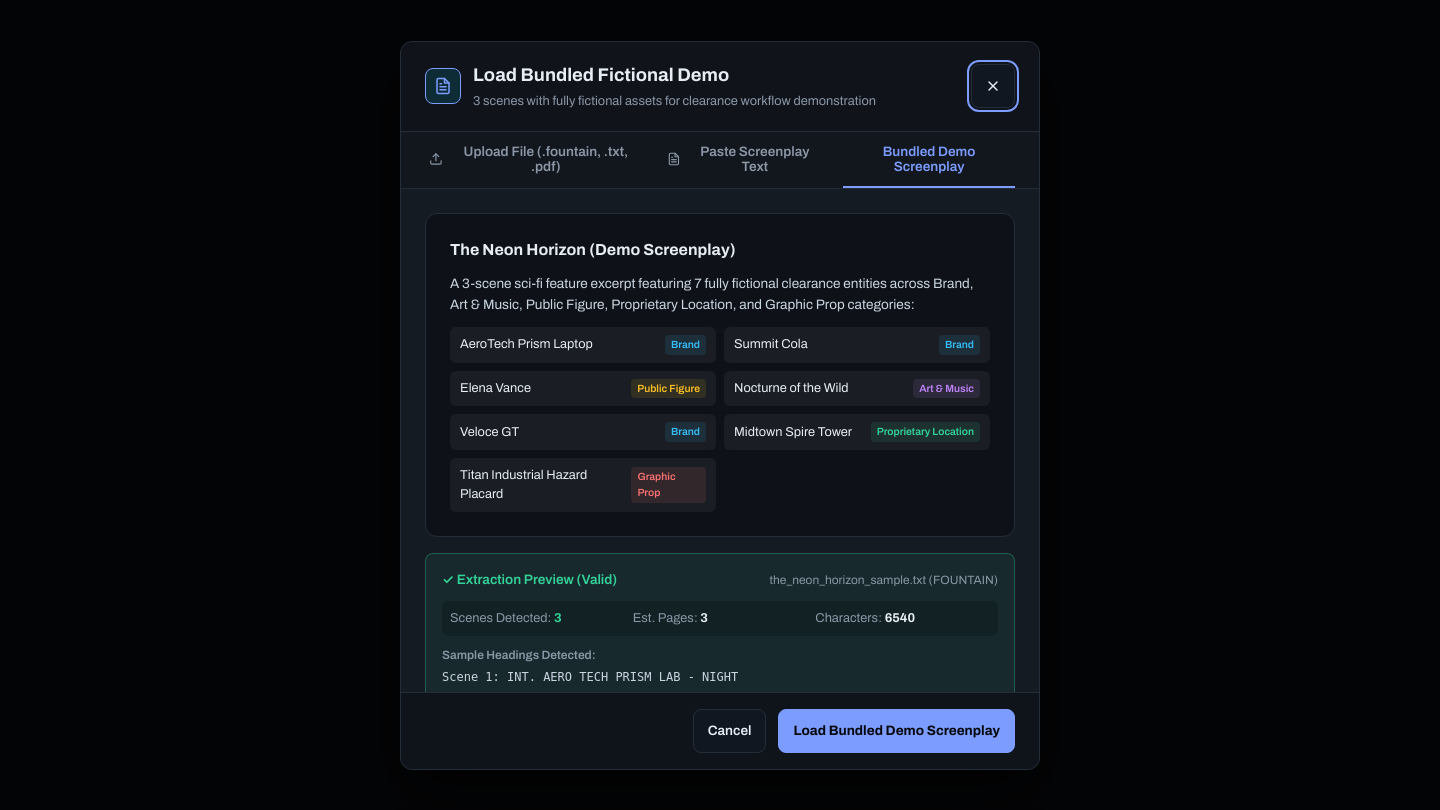
Test: Accessibility & Focus Management Tests (Feature 021) › ScriptUploadModal Ingestion State Transition & Processing A11y › failure_has_alert_semantics & busy_failure_keeps_modal_context
The image size is (1440, 810).
Step 1. Click the button "Load Bundled Demo Screenplay" → (897, 730), box top-left (778, 708), bottom-right (1015, 752)
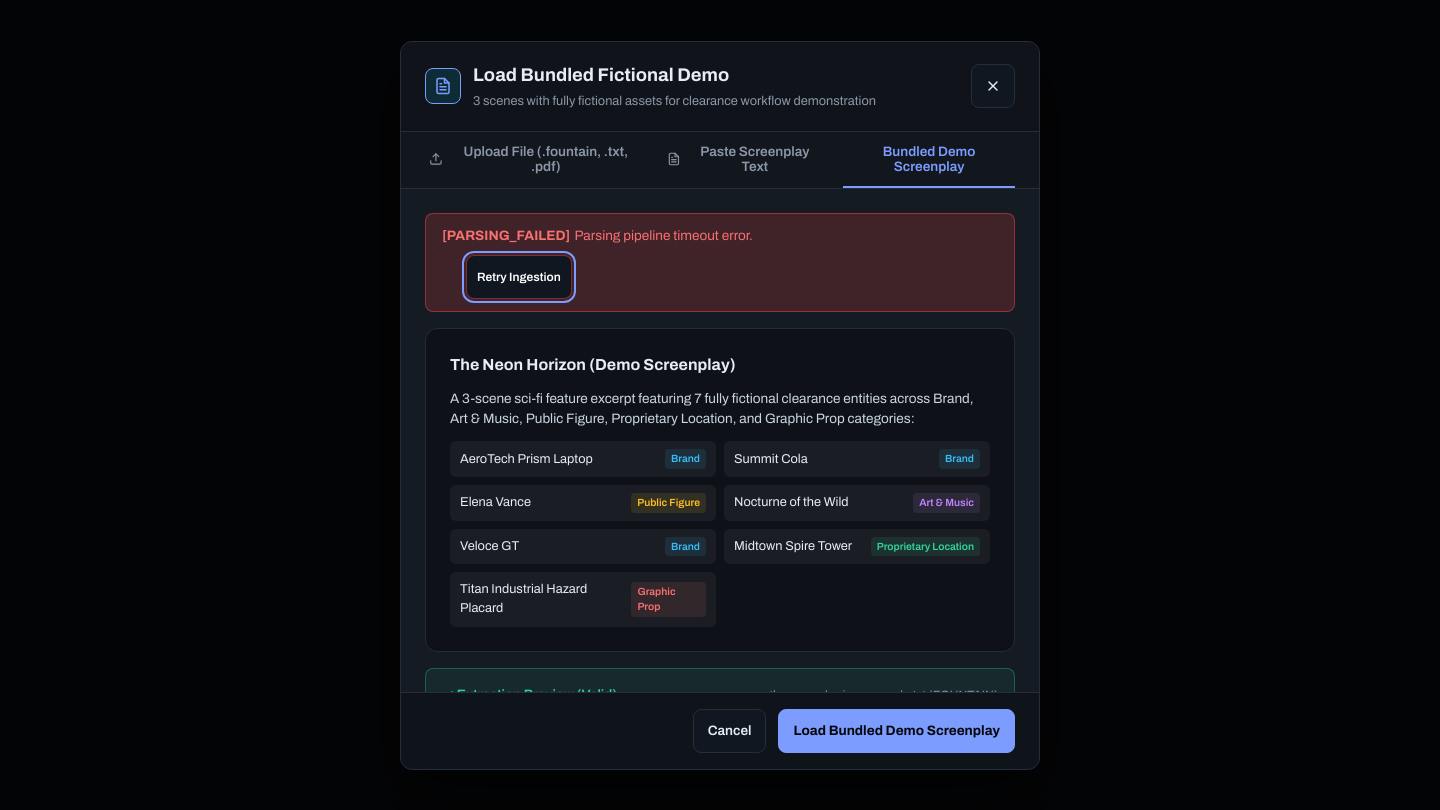
Result: the message "[PARSING_FAILED] Parsing pipeline timeout error. Retry Ingestion" is shown at top-left (425, 213), bottom-right (1015, 312)
Result: the message shows "Parsing pipeline timeout error" at top-left (574, 228), bottom-right (753, 243)
Result: the button "Retry Ingestion" is shown at top-left (466, 255), bottom-right (572, 299)
